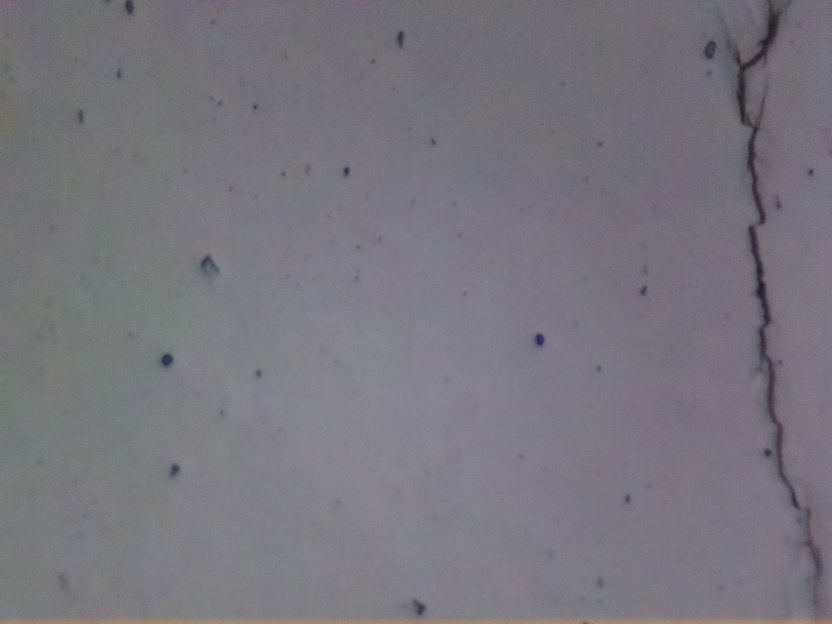crack: (729, 0, 827, 624)
